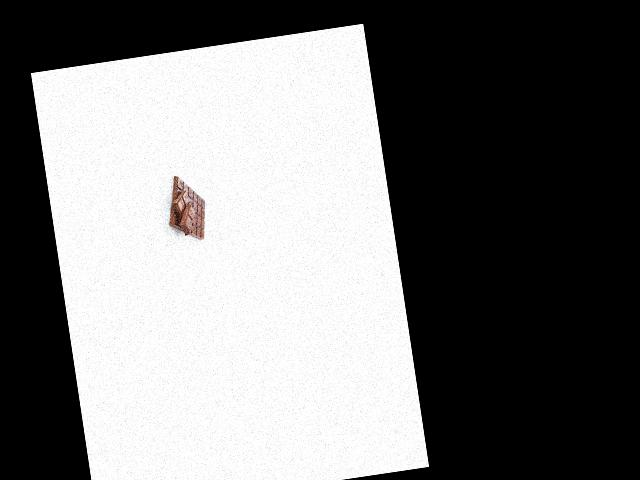chocolate: (159, 171, 213, 245)
